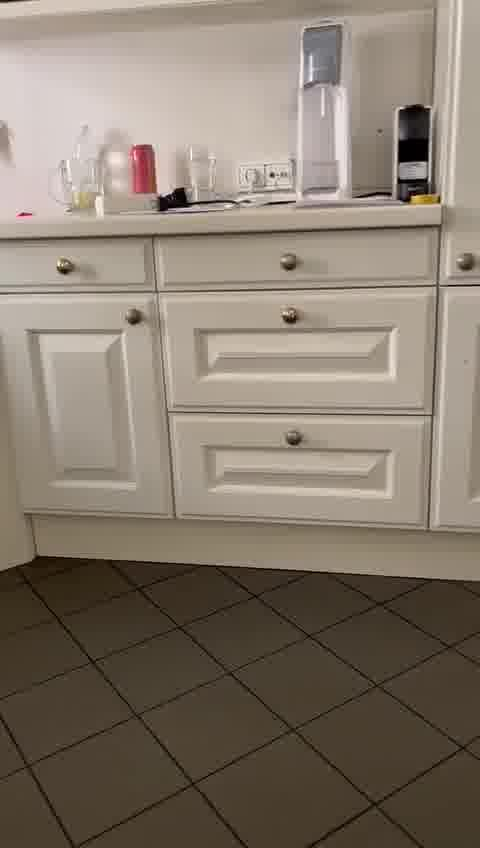cabinet_door: (0, 294, 161, 513), (179, 407, 436, 517), (176, 291, 433, 397), (160, 236, 428, 290), (0, 240, 155, 287)
handle: (448, 241, 479, 281), (280, 428, 310, 454), (118, 304, 149, 329), (280, 246, 300, 277), (281, 304, 300, 330), (55, 258, 77, 279)
